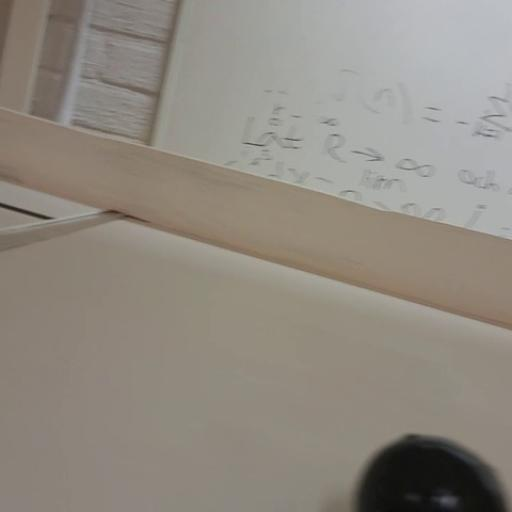dead: (350, 434, 507, 511)
